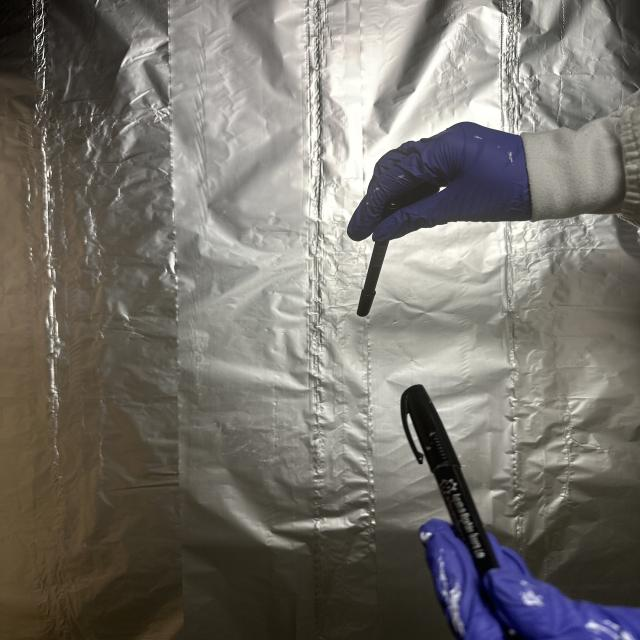gloves_contaminated: (421, 520, 640, 640), (348, 122, 532, 241)
